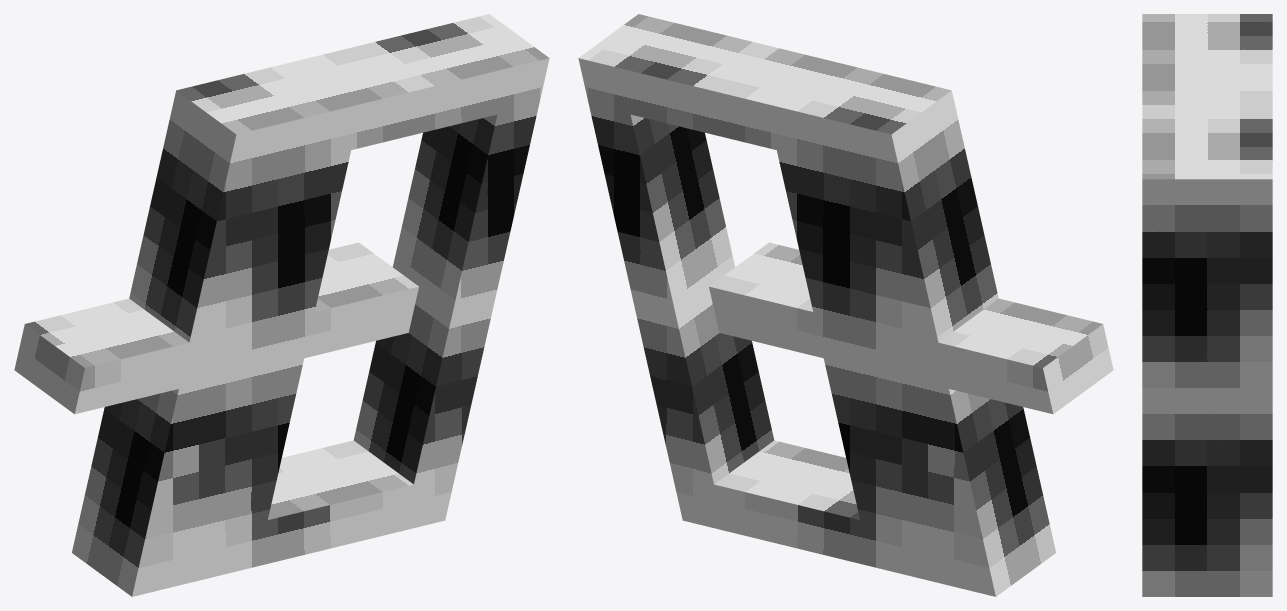
3 renders of one model, left to right at view 1: azimuth 30°, elevation 25°; view 2: azimuth 150°, elevation 25°; view 3: azimuth 270°, elevation 25°, orthographic. The views are drawn at different scales.
Parts seen in each view (by area): view 1: Mesh0; view 2: Mesh0; view 3: Mesh0.
Boxes of the visible parts, left/top/right/bottom form: Mesh0: left=14, top=14, right=549, bottom=596; Mesh0: left=578, top=14, right=1113, bottom=596; Mesh0: left=1142, top=14, right=1272, bottom=596.
Bounding box in the file's own units: 91 × 80 × 20.
1 material, 1 textured.
